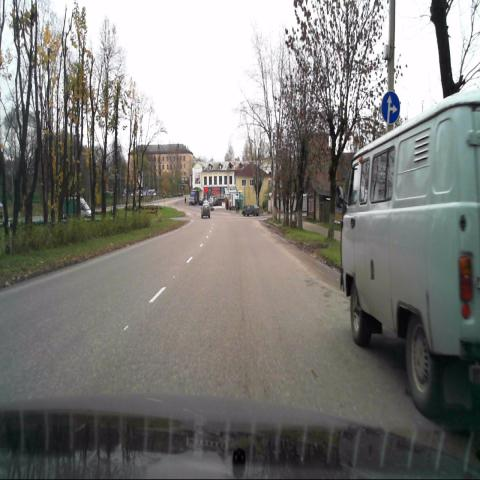4_1_4: (382, 91, 400, 125)
